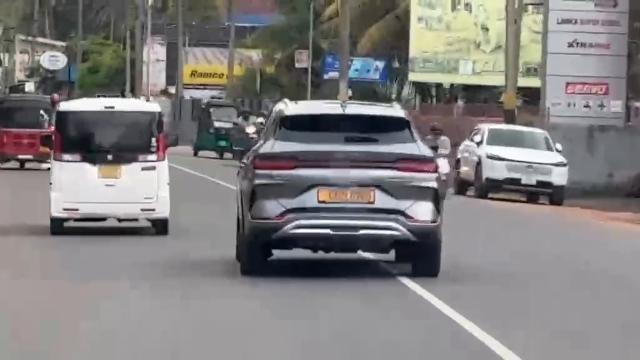illegal overtaking: (224, 88, 455, 295)
